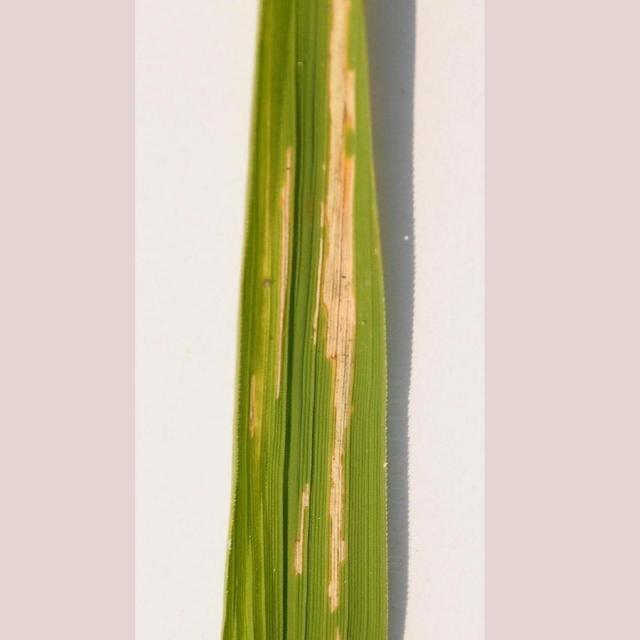leaf blight: (248, 3, 376, 631)
